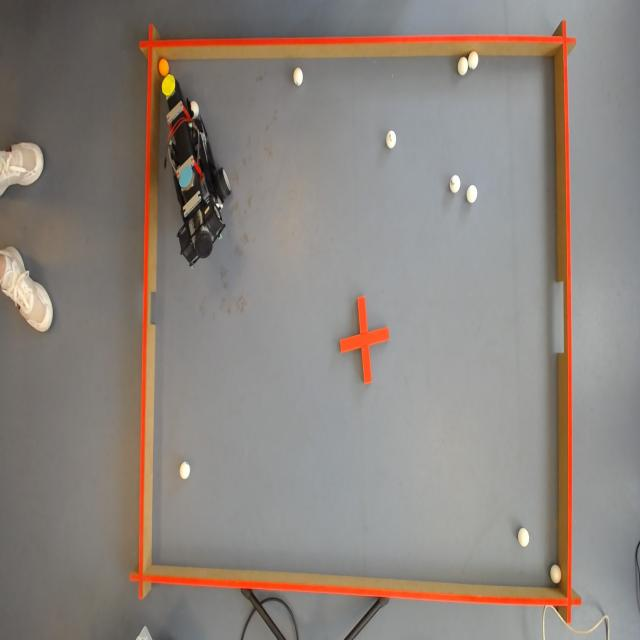orange: (158, 58, 168, 76)
robot: (160, 70, 232, 270)
robot-front: (161, 78, 176, 98)
robot-rear: (177, 161, 194, 190)
white: (517, 528, 531, 550), (550, 563, 562, 586), (467, 50, 479, 71), (466, 185, 479, 204), (456, 58, 468, 76), (179, 463, 190, 480), (386, 130, 397, 147), (294, 66, 304, 83), (450, 175, 460, 192)
